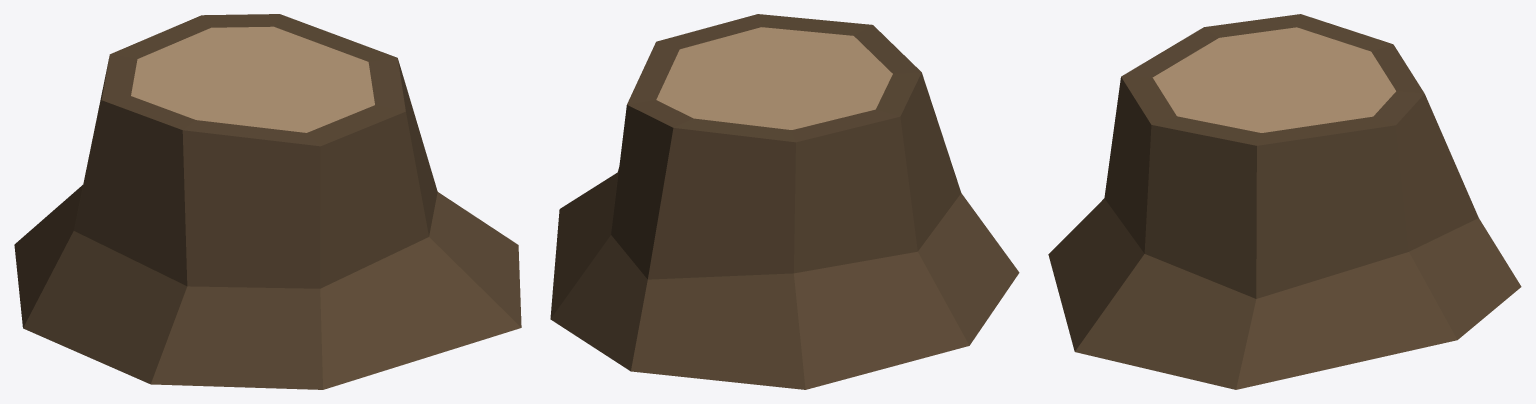
File: enchantedforest_tree_stump_2.fbx
3 renders of one model, left to right at view 1: azimuth 30°, elevation 25°; view 2: azimuth 150°, elevation 25°; view 3: azimuth 270°, elevation 25°, orthographic. The views are drawn at different scales.
Visible parts, largest first — view 1: Cylinder; view 2: Cylinder; view 3: Cylinder.
Boxes of the visible parts, left/top/right/bottom form: Cylinder: left=14, top=14, right=521, bottom=389; Cylinder: left=550, top=14, right=1019, bottom=389; Cylinder: left=1048, top=14, right=1521, bottom=389.
Bounding box in the file's own units: 1.96 × 0.8727 × 1.86.
